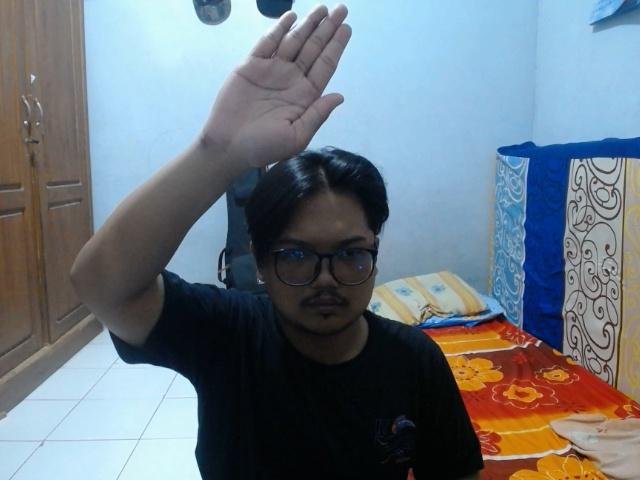Release: (202, 1, 358, 169)
